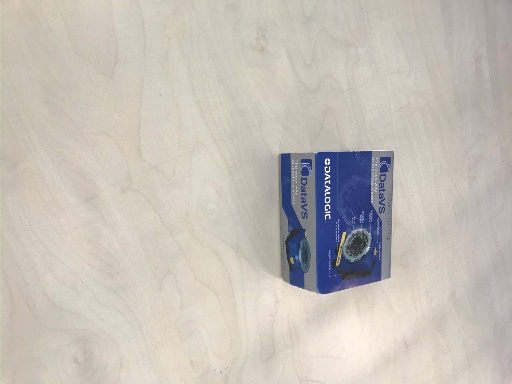Box: (278, 149, 394, 296)
